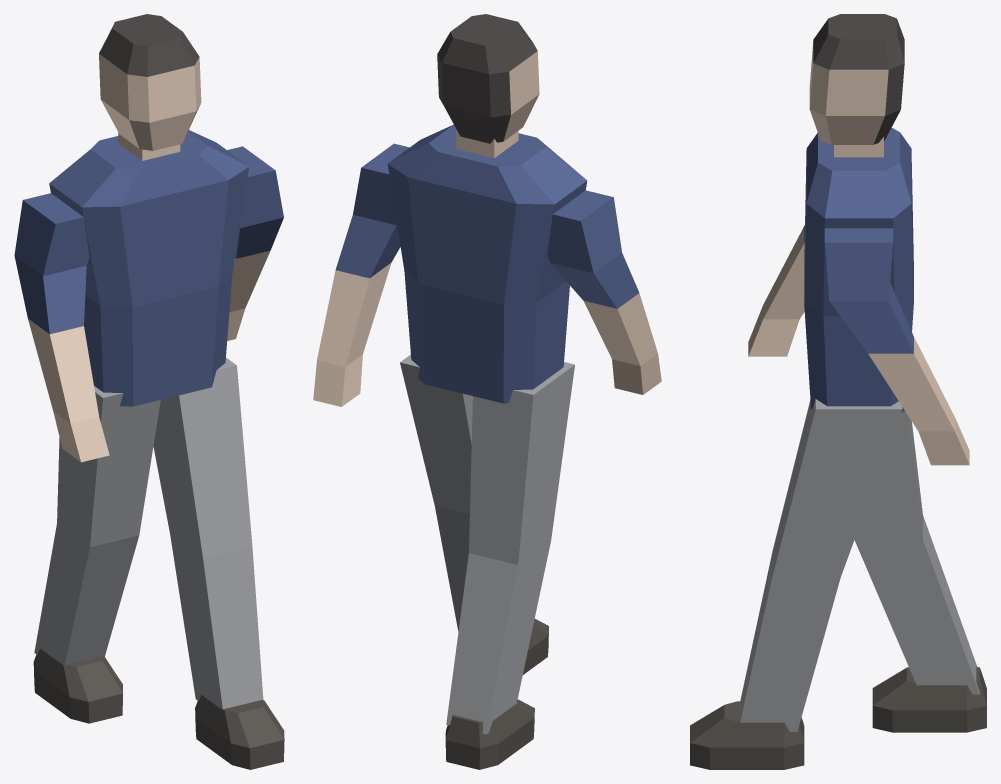
The model's file is pedestrian_0_left.fbx.
The picture shows the model from 3 angles, left to right: view 1: azimuth 30°, elevation 25°; view 2: azimuth 150°, elevation 25°; view 3: azimuth 270°, elevation 25°; orthographic projection. The views are drawn at different scales.
Visible parts, largest first — view 1: pedestrian_0_left; view 2: pedestrian_0_left; view 3: pedestrian_0_left.
Boxes of the visible parts, x1,y1,x2,y2 form: pedestrian_0_left: (14, 14, 284, 769); pedestrian_0_left: (313, 14, 661, 769); pedestrian_0_left: (690, 14, 986, 769).
Bounding box in the file's own units: 0.662 × 1.72 × 0.65.
